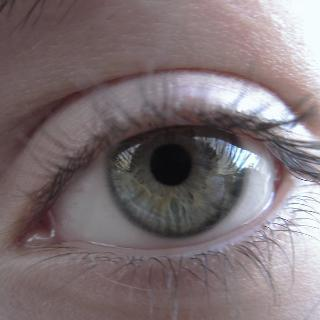pupil: (150, 145, 190, 185)
